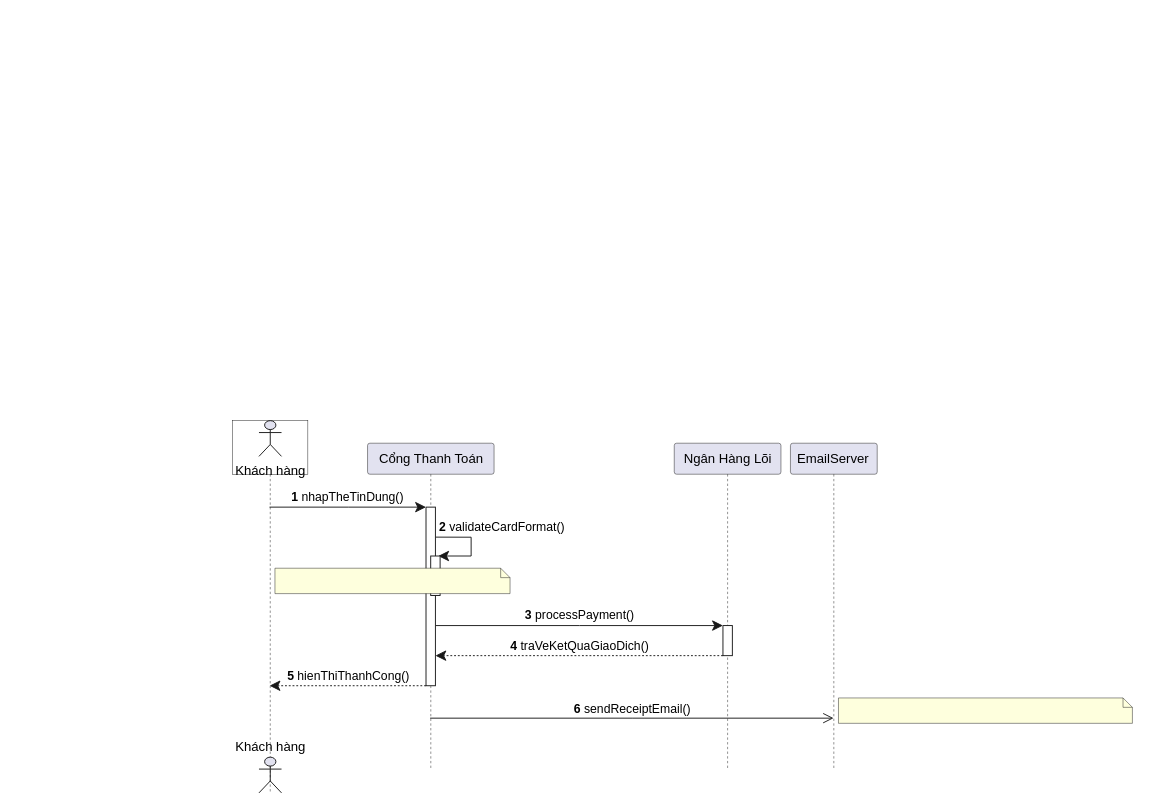
The diagram is 1149 pixels wide and 809 high, and some of its shapes have lost their labels. The centre of each missing label's shape, as x and y in pixels:
Gửi ngầm, không chờ phản hồi (Non-blocking): the point at 985,710
Xử lý nội bộ: Kiểm tra định dạng thẻ: the point at 392,580
